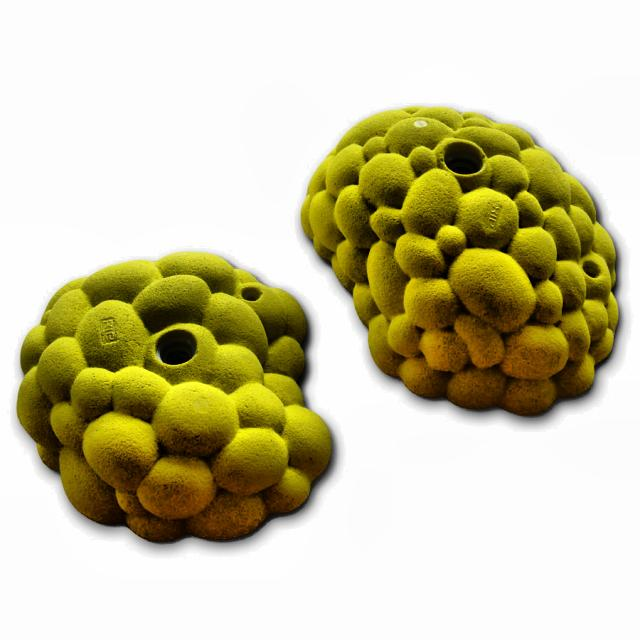Hold: (306, 100, 622, 420), (15, 252, 333, 545)
